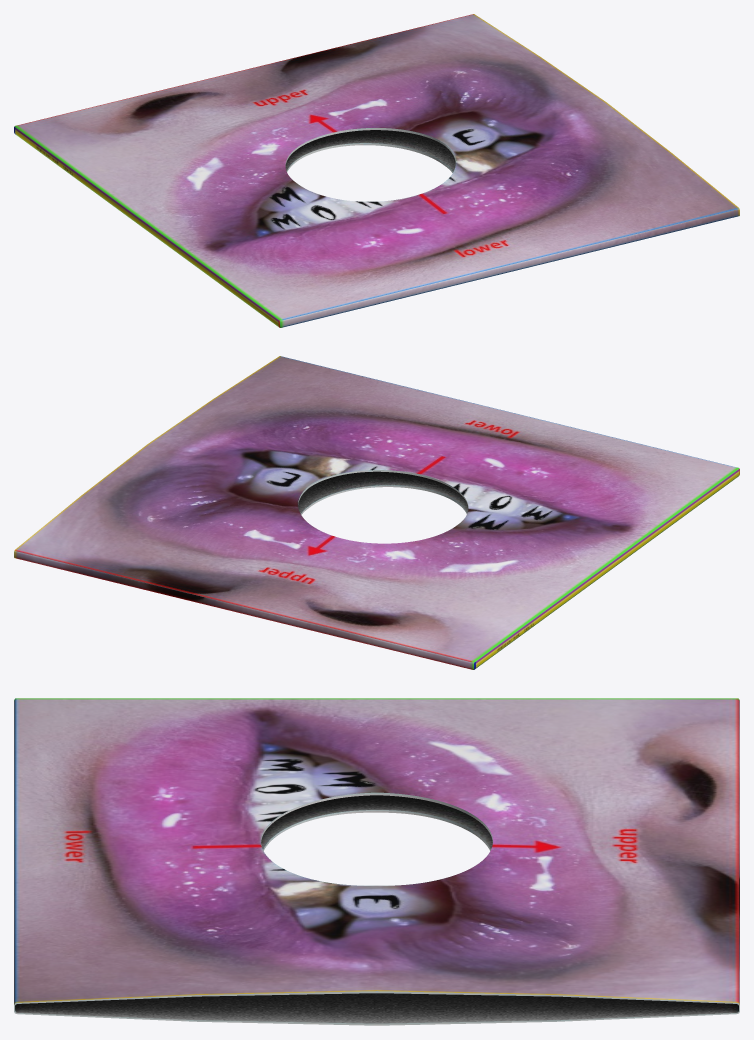
Rendered from sleeve_12_holed_5mm.dae.
The picture shows the model from 3 angles, top to bottom: view 1: azimuth 30°, elevation 25°; view 2: azimuth 150°, elevation 25°; view 3: azimuth 270°, elevation 25°; orthographic projection. The views are drawn at different scales.
Parts seen in each view (by area): view 1: _5mm_sleeve_hole_tawami_ari_焼成後tex読み込み_見え方確認; view 2: _5mm_sleeve_hole_tawami_ari_焼成後tex読み込み_見え方確認; view 3: _5mm_sleeve_hole_tawami_ari_焼成後tex読み込み_見え方確認.
Boxes of the visible parts, box(x1,y1,x2,y2) form: _5mm_sleeve_hole_tawami_ari_焼成後tex読み込み_見え方確認: box(14, 14, 739, 327); _5mm_sleeve_hole_tawami_ari_焼成後tex読み込み_見え方確認: box(14, 356, 739, 669); _5mm_sleeve_hole_tawami_ari_焼成後tex読み込み_見え方確認: box(14, 698, 739, 1025).
Bounding box in the file's own units: 31.18 × 1.65 × 31.3.
Materials: 1 (1 with a texture image).
